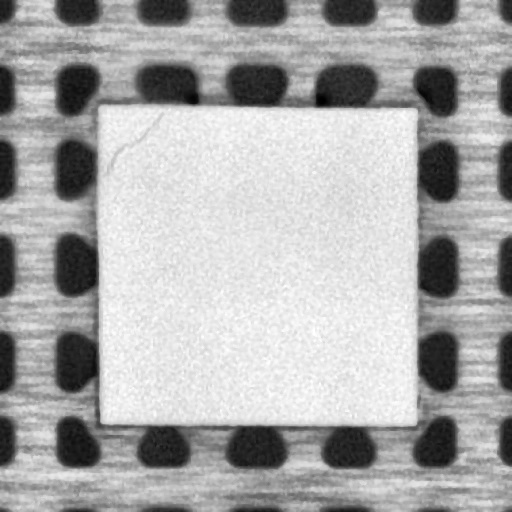DIE_CRACK: (106, 110, 165, 166)
